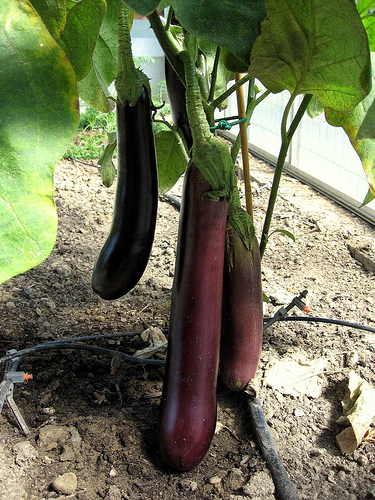eggplant: (158, 116, 241, 395), (85, 67, 162, 302), (206, 183, 273, 398)
